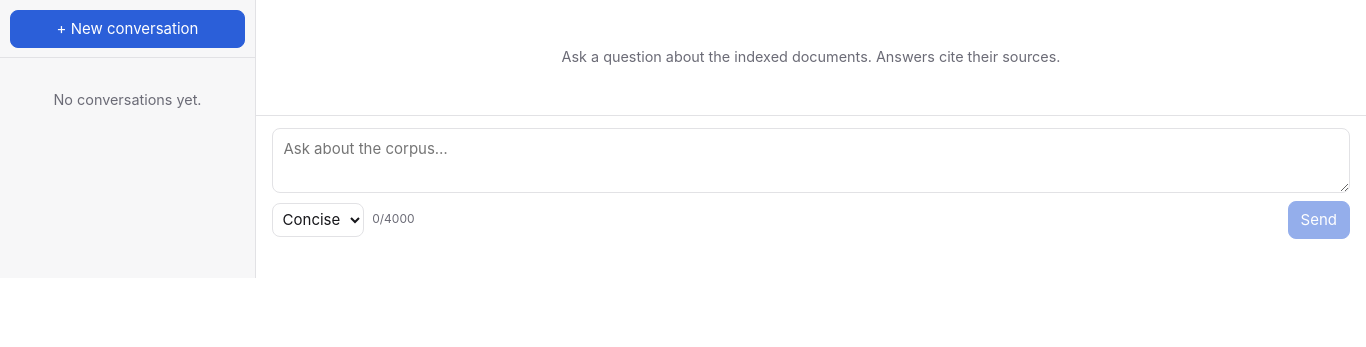
Test: ChatPage › renders a refusal distinctly and keeps the sources
Type "something unrelated" into the text box named "Message". click: (811, 160)
box: [272,128,1350,193]
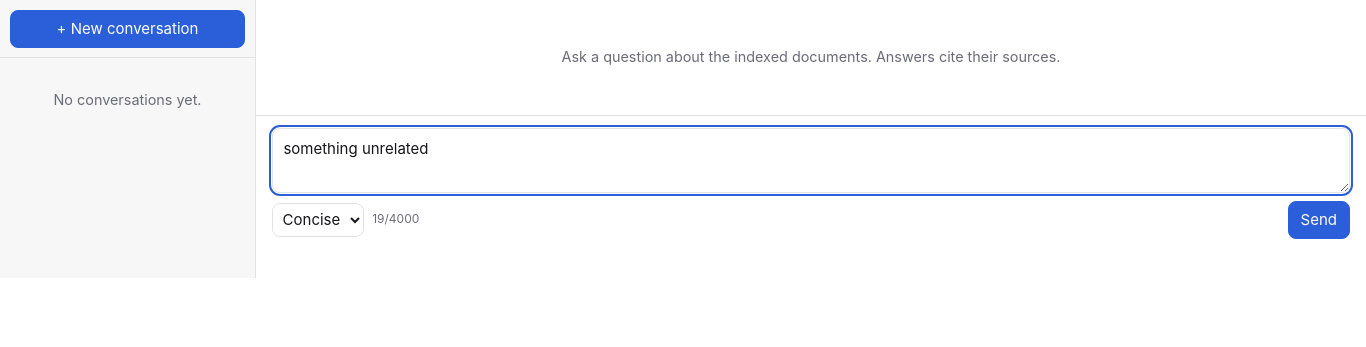
Click the button "Send". click: (1319, 220)
box: [1288,201,1350,239]
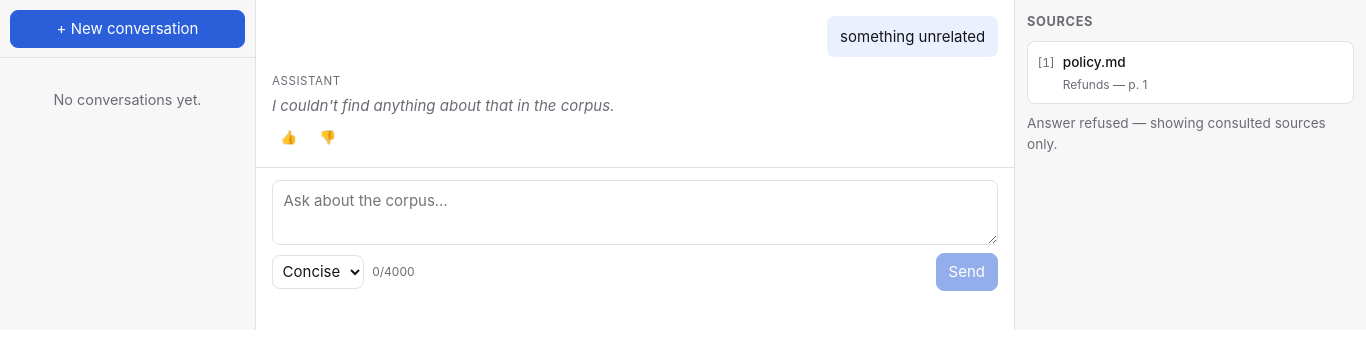
Now the text "I couldn't find anything about that in the corpus." is shown, box [272,94,614,117]
Now the heading "Sources" is shown, box [1027,14,1093,29]
Now the text "Answer refused — showing consulted sources only." is shown, box [1027,113,1354,155]
